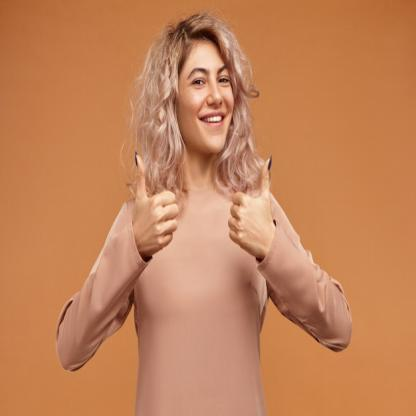thumb_up: (128, 152, 180, 256), (226, 152, 276, 252)
